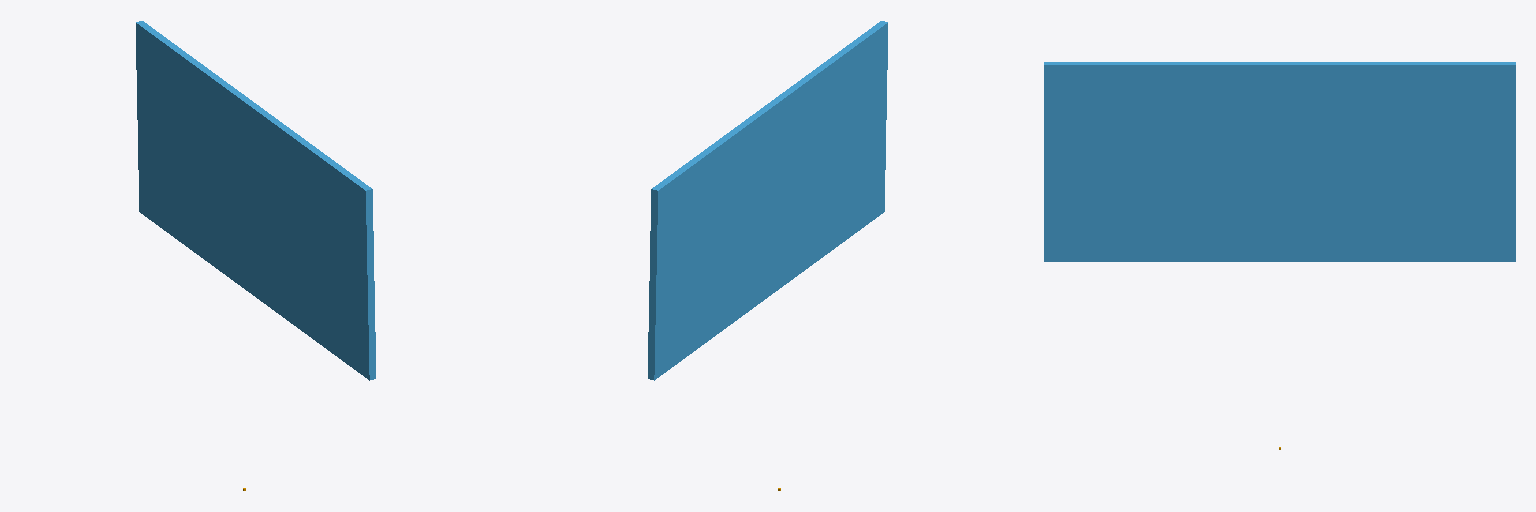
URDF robot description (logo):
<?xml version="1.0"?>
<robot name="logo">

  <link name="logo_support">
    <inertial>
      <mass value="10.0" />
      <origin xyz="0 0 0" />
      <inertia ixx="1" ixy="0"  ixz="0"
               iyy="1" iyz="0"
               izz="1" />
    </inertial> 
    <visual>
      <origin xyz="0 0 0" />
      <geometry>
        <box size="0.01 0.01 0.01" />
      </geometry>
    </visual> 
    <collision>
      <origin xyz="0 0 0" />
      <geometry>
        <box size="0.2 1.75 0.025" />
      </geometry>
    </collision>
  </link>

  <joint name="logo_suport_joint" type="fixed" >
    <parent link="logo_support" />
    <origin xyz="0.05 0.0 1.2" rpy="0.0 1.55 0.0" /> <!--025 -->
    <child link="logo" />
  </joint> 


  <link name="logo">
    <inertial>
      <mass value="0.1" />
      <origin xyz="0 0 0" />
      <inertia ixx="1" ixy="0"  ixz="0"
               iyy="1" iyz="0"
               izz="1" />
    </inertial> 
    <visual>
      <origin xyz="0 0 0" />
      <geometry>
        <box size="0.8 1.75 0.03" />
      </geometry>
    </visual> 
    <collision>
      <origin xyz="0 0 0" />
      <geometry>
        <box size="0.8 1.75 0.03" />
      </geometry>
    </collision>
  </link>
  <gazebo reference="logo">
    <material>Guardian/Logo</material>
    <static>true</static>
    <turnGravityOff>true</turnGravityOff>
  </gazebo>
 
</robot>

--- Facts derived from the render (not from the file) ---
Views: 3 orthographic renders of the robot side by side, from view 1: azimuth 30°, elevation 25°; view 2: azimuth 150°, elevation 25°; view 3: azimuth 270°, elevation 25°.
Robot: logo — 2 links, 1 joints (1 fixed); root link logo_support; default pose: all joints at 0.
Links seen in each view (by area): view 1: logo; view 2: logo; view 3: logo.
Link boxes in pixels (bbox=[...]): logo: bbox=[136, 21, 375, 380]; logo: bbox=[648, 21, 887, 380]; logo: bbox=[1044, 62, 1515, 261].
Size in the robot's own frame: 0.0783 by 1.75 by 1.61 metres.
Geometry: primitives only (box / cylinder / sphere), no mesh files.